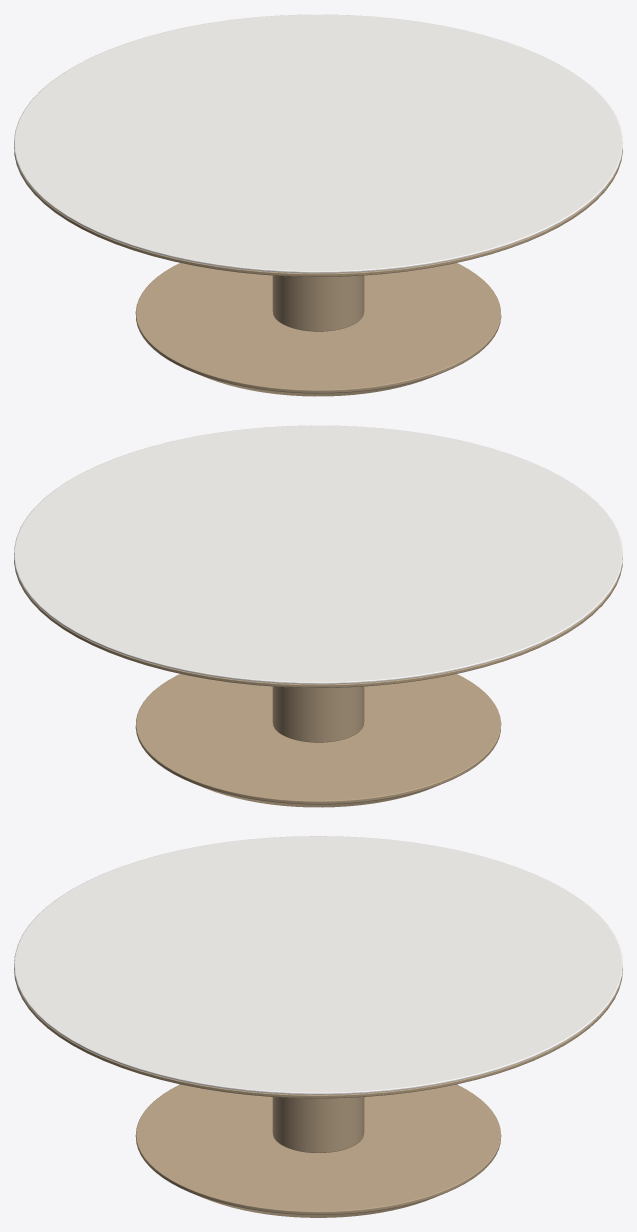
The model's file is orbit3d_d100h33.glb.
3 renders of one model, top to bottom at view 1: azimuth 30°, elevation 25°; view 2: azimuth 150°, elevation 25°; view 3: azimuth 270°, elevation 25°, orthographic.
Parts seen in each view (by area): view 1: Top Orbit Coffee Table 018, Base Orbit Coffee Table 018, Base Element Orbit Coffee Table 021, Undertop Orbit Coffee Table 018; view 2: Top Orbit Coffee Table 018, Base Orbit Coffee Table 018, Base Element Orbit Coffee Table 021, Undertop Orbit Coffee Table 018; view 3: Top Orbit Coffee Table 018, Base Orbit Coffee Table 018, Base Element Orbit Coffee Table 021, Undertop Orbit Coffee Table 018.
Boxes of the visible parts, bbox=[...] form: Top Orbit Coffee Table 018: bbox=[14, 14, 622, 273]; Base Orbit Coffee Table 018: bbox=[135, 263, 501, 396]; Base Element Orbit Coffee Table 021: bbox=[272, 275, 364, 331]; Undertop Orbit Coffee Table 018: bbox=[14, 146, 622, 276]; Top Orbit Coffee Table 018: bbox=[14, 425, 622, 684]; Base Orbit Coffee Table 018: bbox=[135, 674, 501, 807]; Base Element Orbit Coffee Table 021: bbox=[272, 686, 364, 742]; Undertop Orbit Coffee Table 018: bbox=[14, 557, 622, 687]; Top Orbit Coffee Table 018: bbox=[14, 836, 622, 1094]; Base Orbit Coffee Table 018: bbox=[135, 1084, 501, 1217]; Base Element Orbit Coffee Table 021: bbox=[272, 1097, 364, 1152]; Undertop Orbit Coffee Table 018: bbox=[14, 968, 622, 1098].
Size of the model in its own units: 1 by 0.334 by 1.
